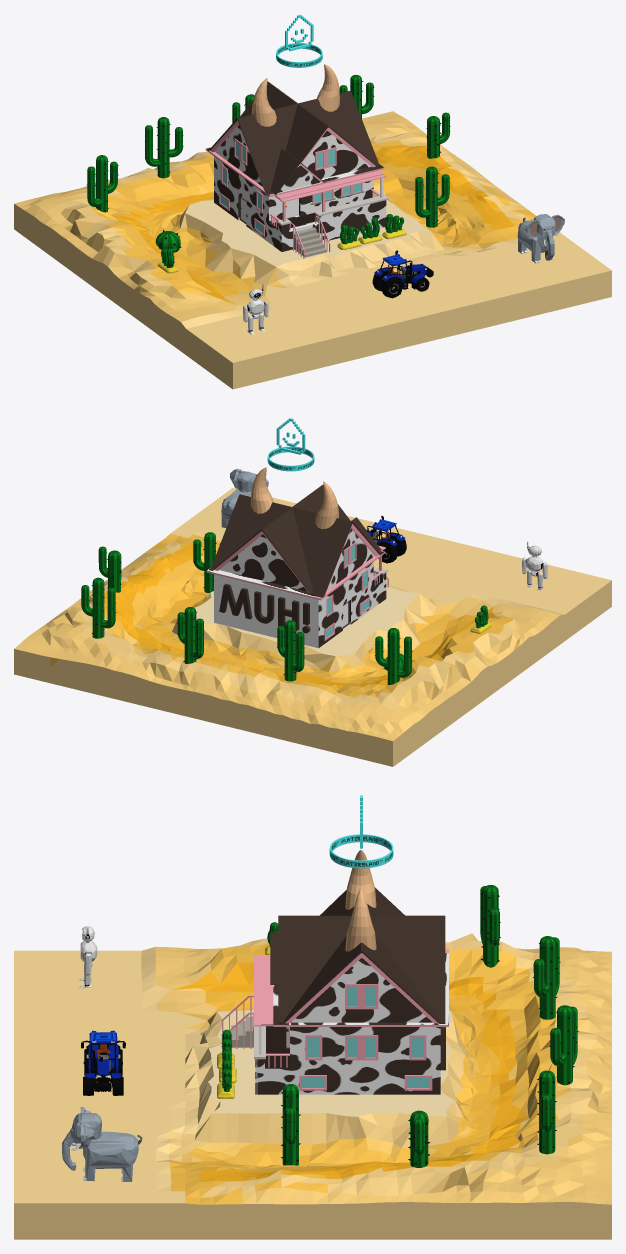
3 views of the same model, one above another, from view 1: azimuth 30°, elevation 25°; view 2: azimuth 150°, elevation 25°; view 3: azimuth 270°, elevation 25° (orthographic). The views are drawn at different scales.
Parts seen in each view (by area): view 1: Cube.001, Cube.1242, VEHICLES_TRACTOR, ANIMAL_ELEFANTE, Cylinder.044, Cylinder.037, Cylinder.045, TYPE_PREMIUM, Cylinder.038, OBJRANDOM_PLATZEEBOT, Cylinder.042; view 2: Cube.001, Cube.1242, Cylinder.042, Cylinder.045, Cylinder.044, Cylinder.043, VEHICLES_TRACTOR, TYPE_PREMIUM, ANIMAL_ELEFANTE, Cylinder.037, Cylinder.038, OBJRANDOM_PLATZEEBOT; view 3: Cube.001, Cube.1242, ANIMAL_ELEFANTE, VEHICLES_TRACTOR, Cylinder.044, Cylinder.043, Cylinder.045, Cylinder.042, Cylinder.037, TYPE_PREMIUM, Cylinder.038, OBJRANDOM_PLATZEEBOT.
Boxes of the visible parts, <box> form: Cube.001: <box>14,111,611,389</box>; Cube.1242: <box>205,64,388,258</box>; VEHICLES_TRACTOR: <box>372,250,433,298</box>; ANIMAL_ELEFANTE: <box>517,214,564,263</box>; Cylinder.044: <box>145,117,183,178</box>; Cylinder.037: <box>415,166,449,227</box>; Cylinder.045: <box>87,155,118,212</box>; TYPE_PREMIUM: <box>276,14,322,67</box>; Cylinder.038: <box>426,112,450,158</box>; OBJRANDOM_PLATZEEBOT: <box>243,284,268,334</box>; Cylinder.042: <box>339,75,374,118</box>; Cube.001: <box>14,488,611,766</box>; Cube.1242: <box>206,467,388,648</box>; Cylinder.042: <box>81,577,116,638</box>; Cylinder.045: <box>374,628,412,684</box>; Cylinder.044: <box>277,620,304,681</box>; Cylinder.043: <box>177,607,203,663</box>; VEHICLES_TRACTOR: <box>367,515,406,563</box>; TYPE_PREMIUM: <box>267,418,314,471</box>; ANIMAL_ELEFANTE: <box>221,468,268,527</box>; Cylinder.037: <box>193,532,220,592</box>; Cylinder.038: <box>98,546,121,592</box>; OBJRANDOM_PLATZEEBOT: <box>522,541,547,590</box>; Cube.001: <box>14,933,611,1239</box>; Cube.1242: <box>221,849,448,1094</box>; ANIMAL_ELEFANTE: <box>62,1107,142,1181</box>; VEHICLES_TRACTOR: <box>81,1030,125,1095</box>; Cylinder.044: <box>533,936,560,1019</box>; Cylinder.043: <box>549,1005,578,1085</box>; Cylinder.045: <box>480,885,500,967</box>; Cylinder.042: <box>537,1070,556,1154</box>; Cylinder.037: <box>281,1084,300,1165</box>; TYPE_PREMIUM: <box>329,795,393,868</box>; Cylinder.038: <box>408,1110,429,1167</box>; OBJRANDOM_PLATZEEBOT: <box>79,926,97,988</box>.
Bounding box in the file's own units: 4002 × 2538 × 4001.
Materials: 35 (3 with a texture image).
